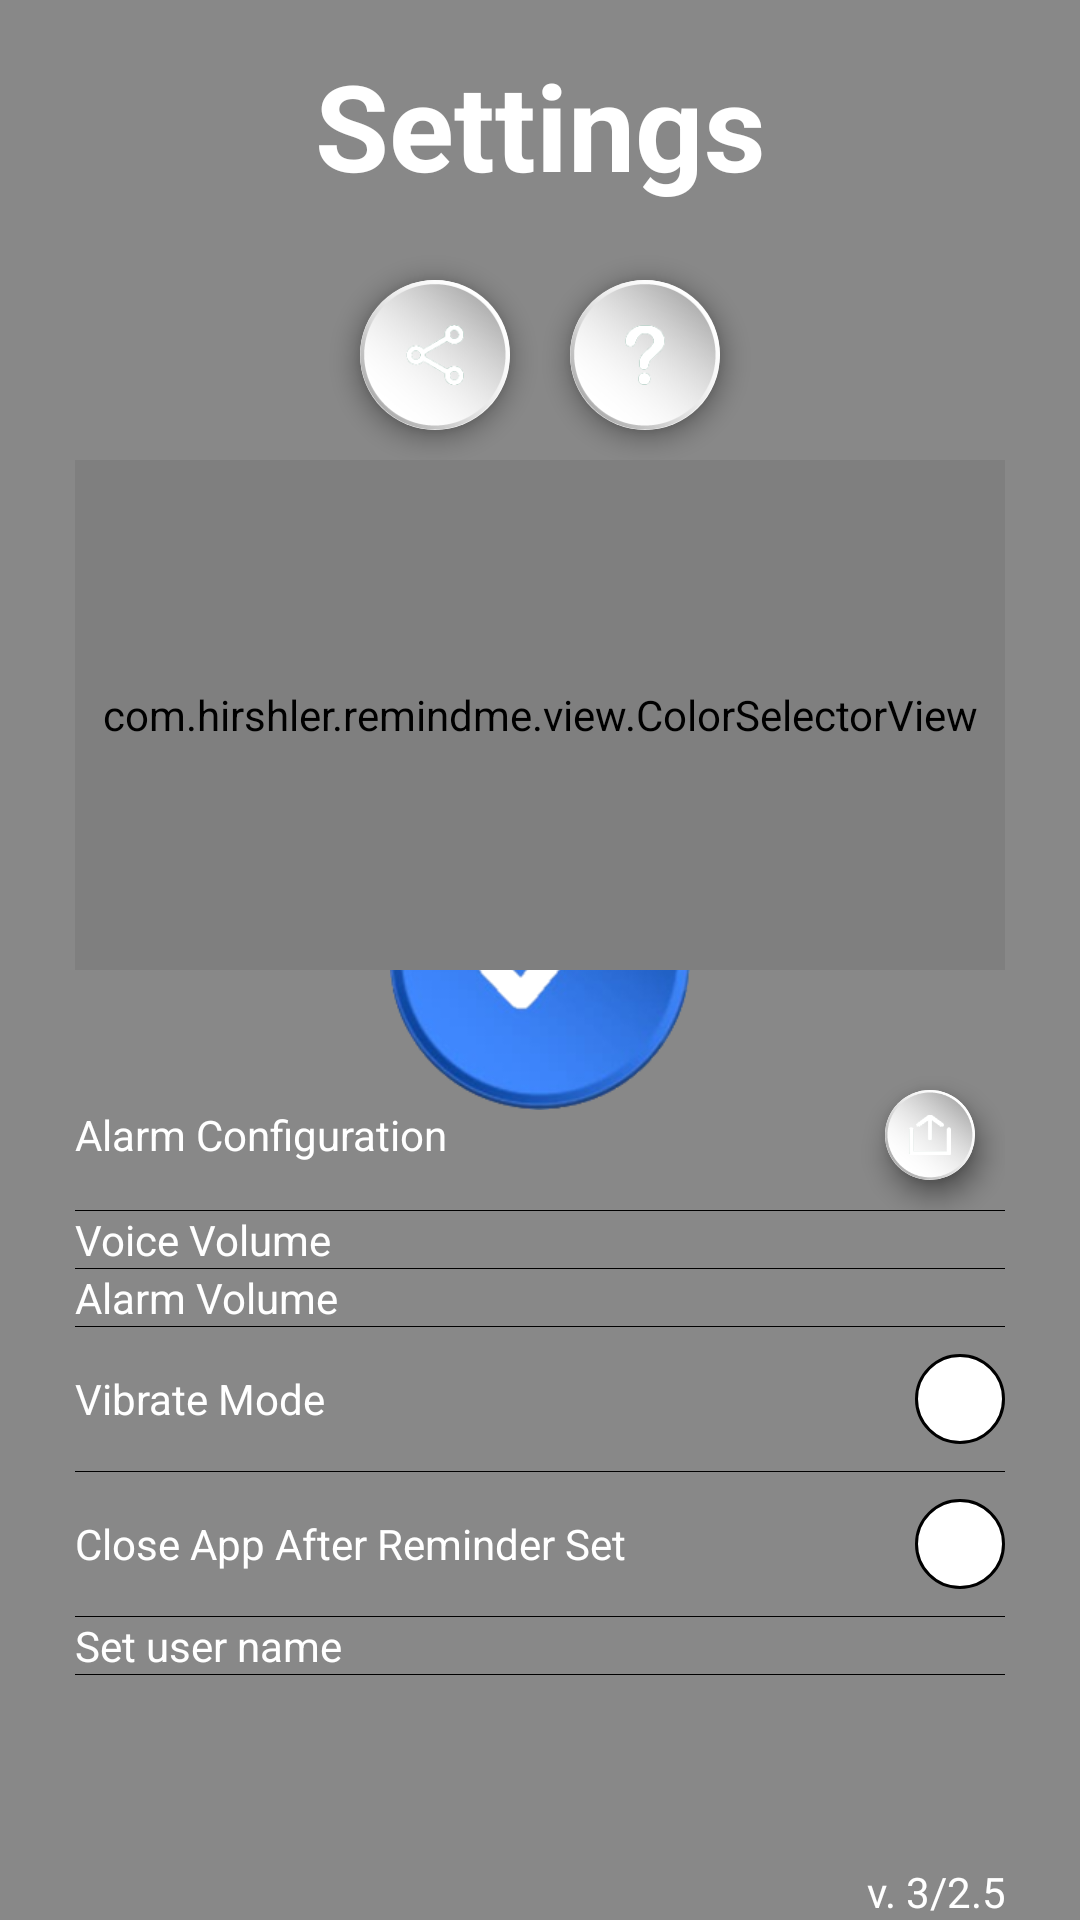

Locate icon controls on the screen. Image size 1080px×1920px, boxes as {"left": x1, "top": y1, "right": x2, "bottom": y2}.
info: {"left": 570, "top": 280, "right": 720, "bottom": 430}
share: {"left": 360, "top": 280, "right": 510, "bottom": 430}
